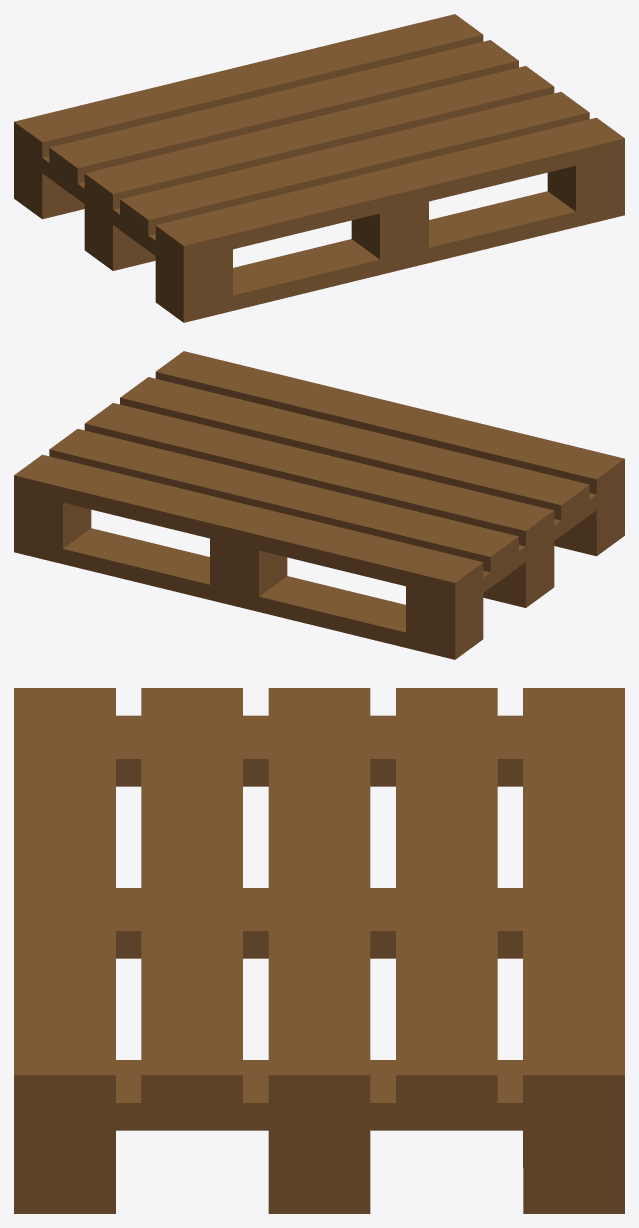
Rendered from Pallet.fbx.
3 renders of one model, top to bottom at view 1: azimuth 30°, elevation 25°; view 2: azimuth 150°, elevation 25°; view 3: azimuth 270°, elevation 25°, orthographic. The views are drawn at different scales.
Parts seen in each view (by area): view 1: Pallet; view 2: Pallet; view 3: Pallet.
Part boxes in pixels (x1,y1,x2,y2): Pallet: [14, 14, 624, 322]; Pallet: [14, 351, 624, 659]; Pallet: [14, 688, 624, 1213].
Size of the model in its own units: 683 by 114 by 455.
